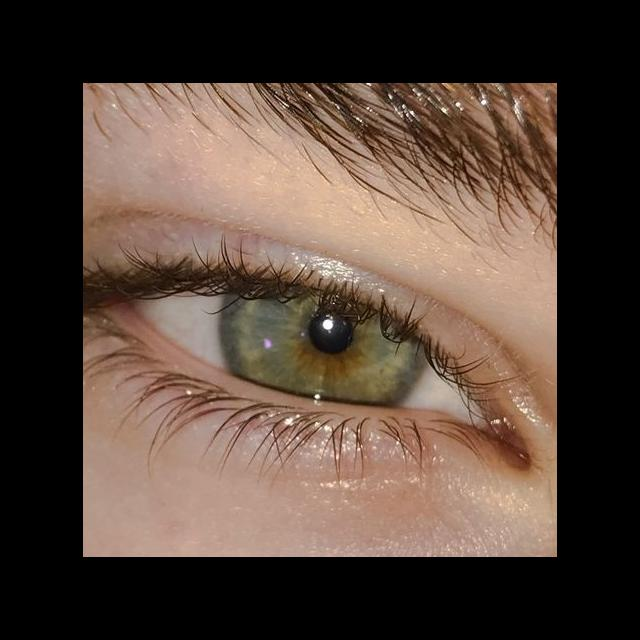eye: (127, 271, 486, 432)
iris: (220, 281, 426, 405)
